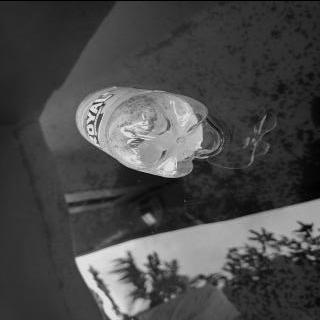bottle: (71, 84, 221, 178)
